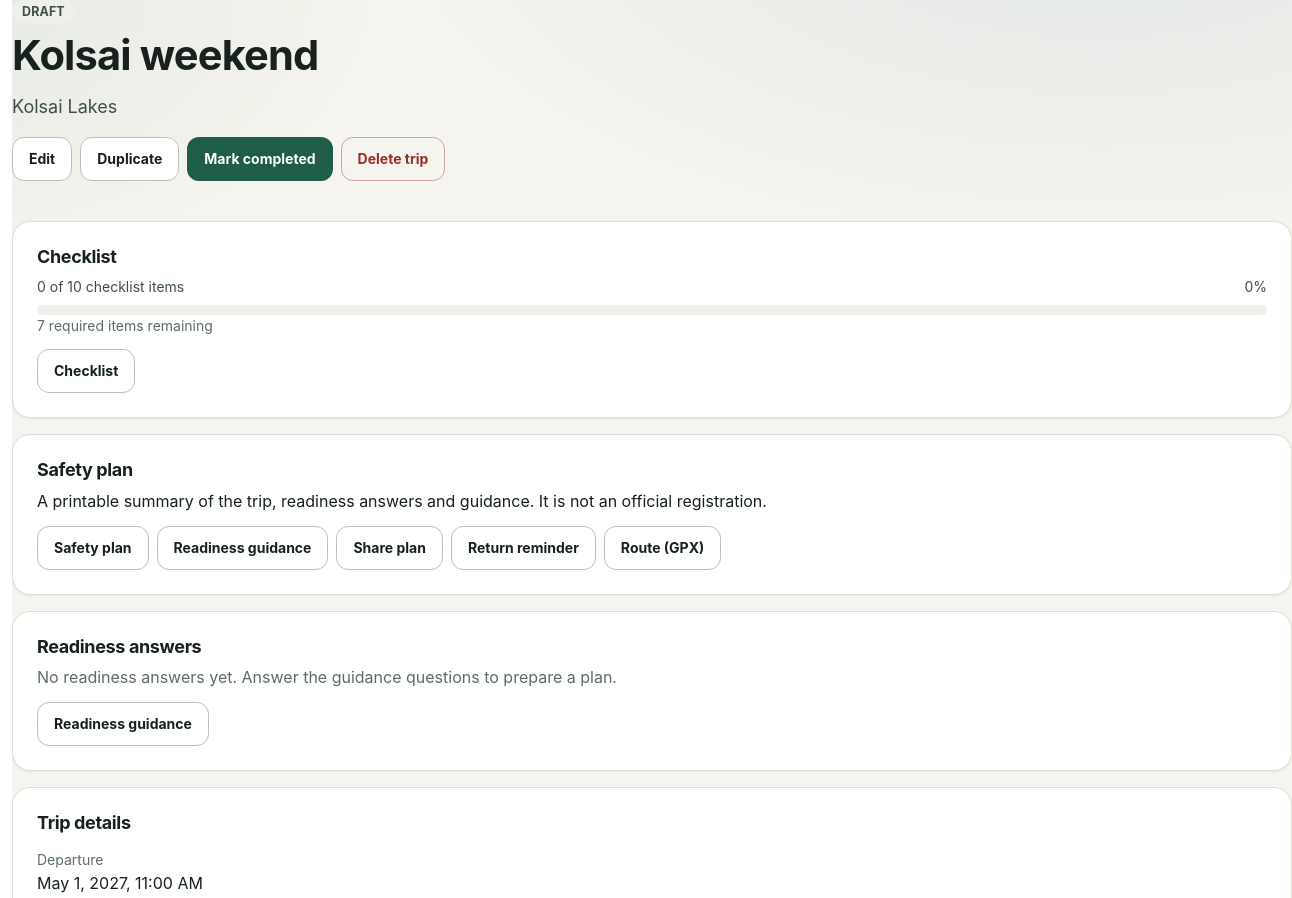
Test: TripDetailPage › completes and reopens a trip through setStatus
The image size is (1292, 898).
What coordinates should you click on to do the following:
click the button "Mark completed"
I would click on:
 (260, 159)
Its box is [187,137,333,181].
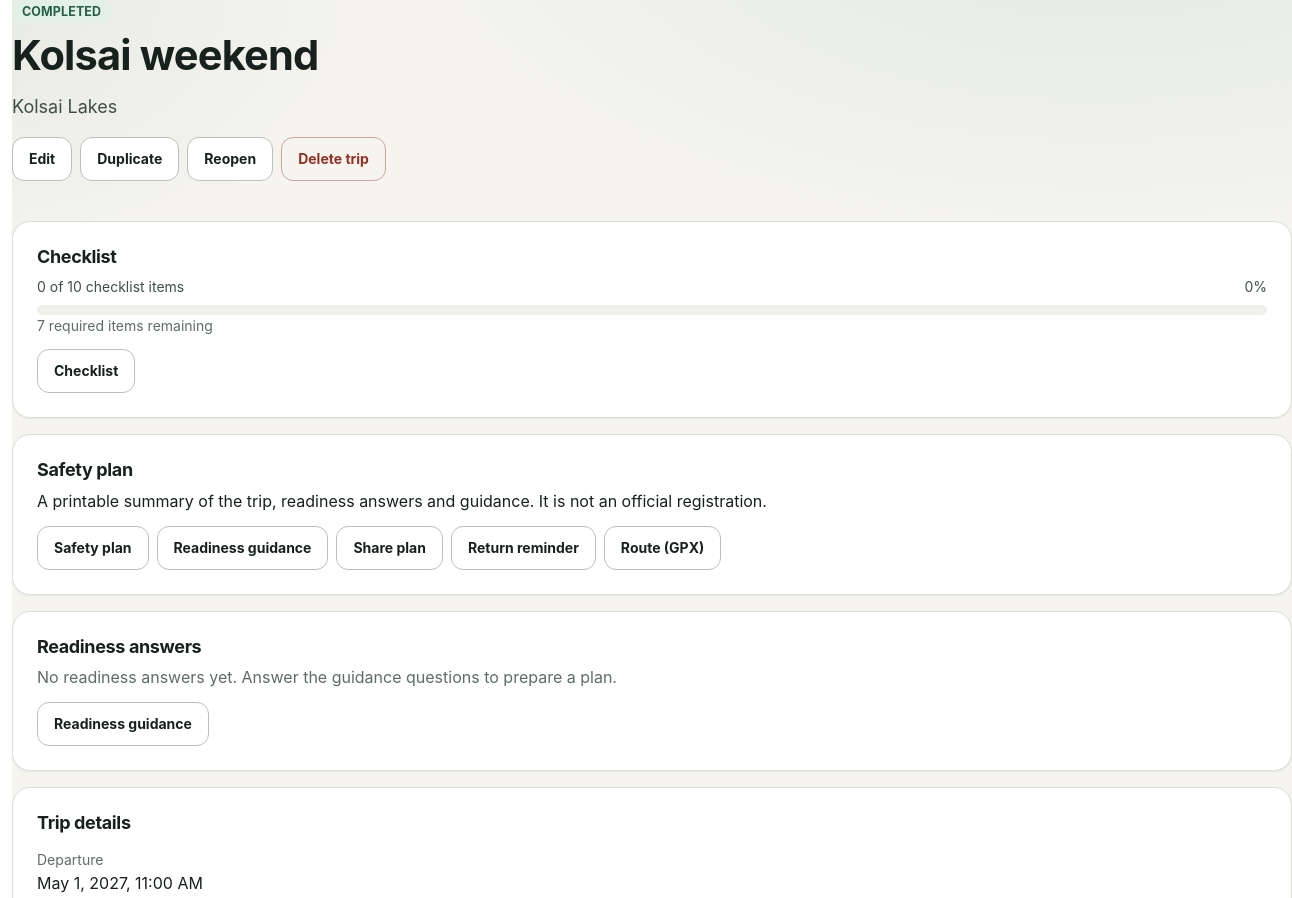
Result: the text "Completed" is shown at [12,0,111,23]
What coordinates should you click on to do the following:
click the button "Reopen"
I would click on:
 (230, 159)
Its box is [187,137,273,181].
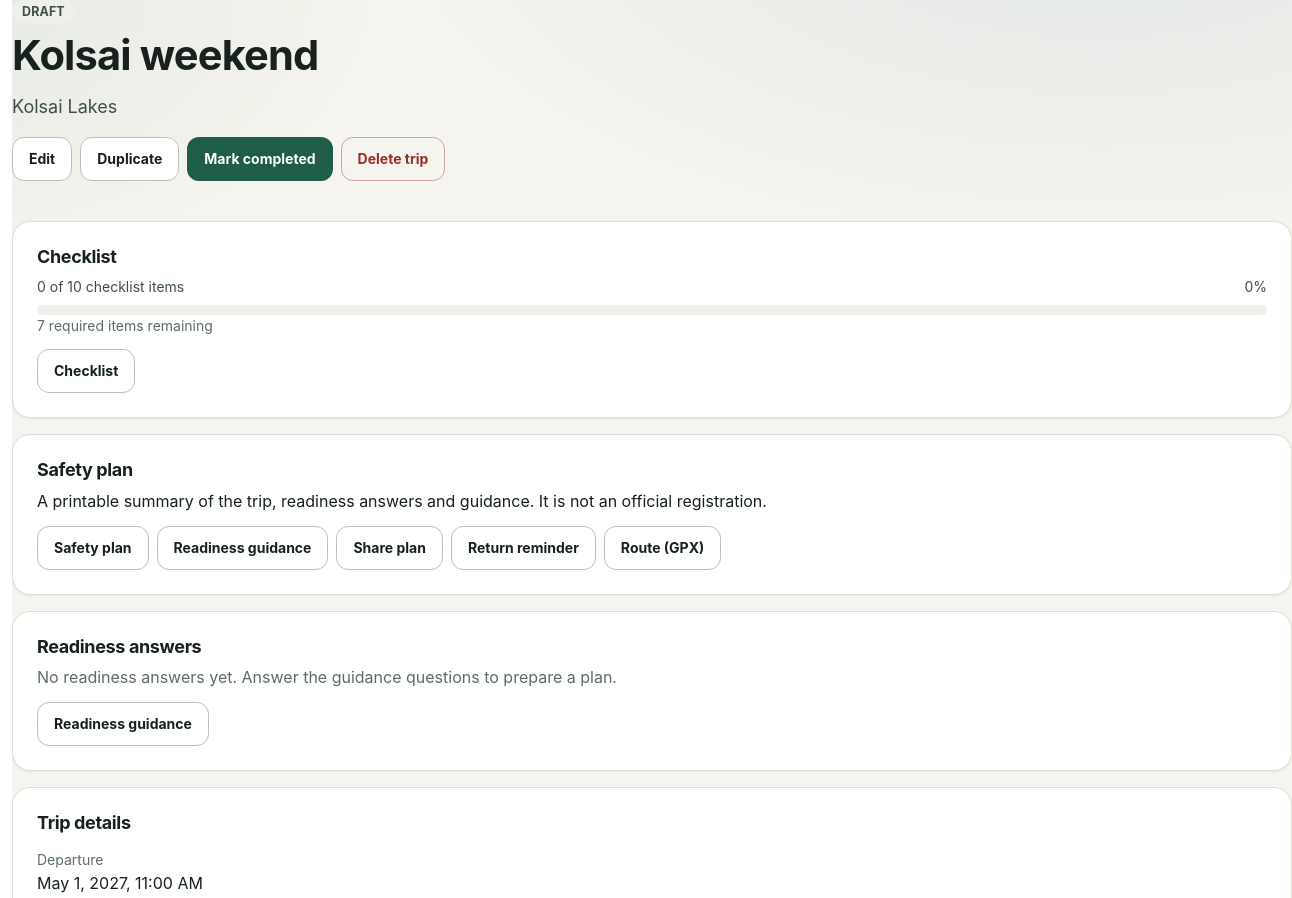
Result: the text "Draft" is shown at [12,0,75,23]
